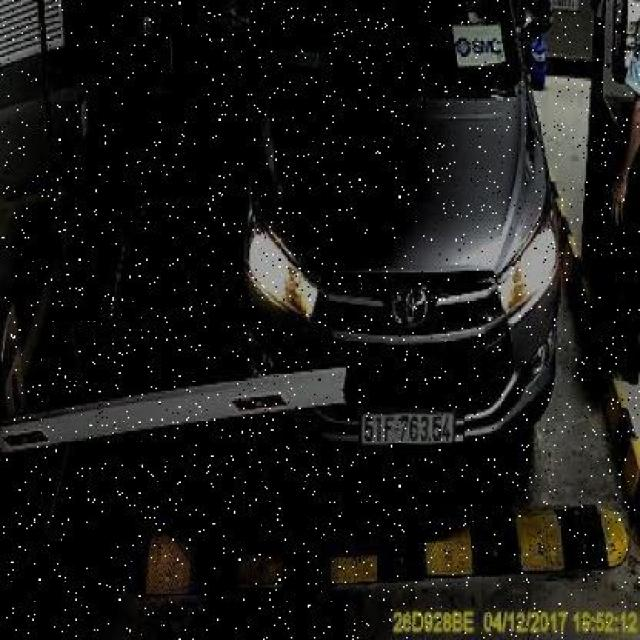number_plate: (358, 388, 464, 452)
